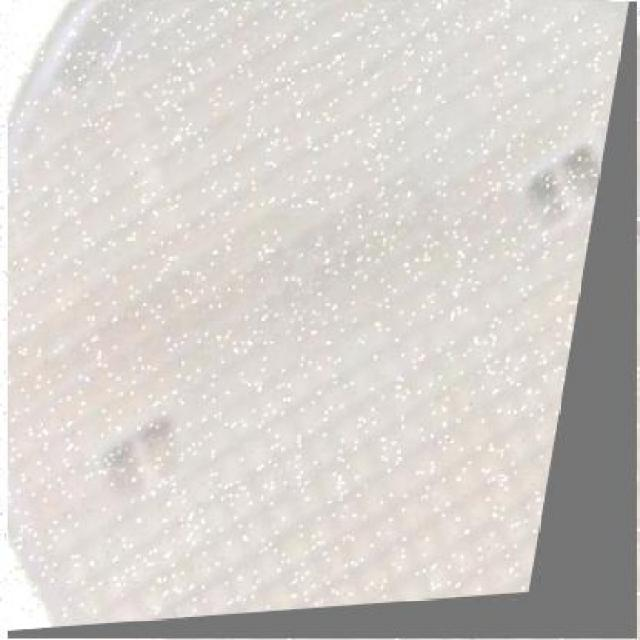Manhole: (8, 1, 637, 638)
